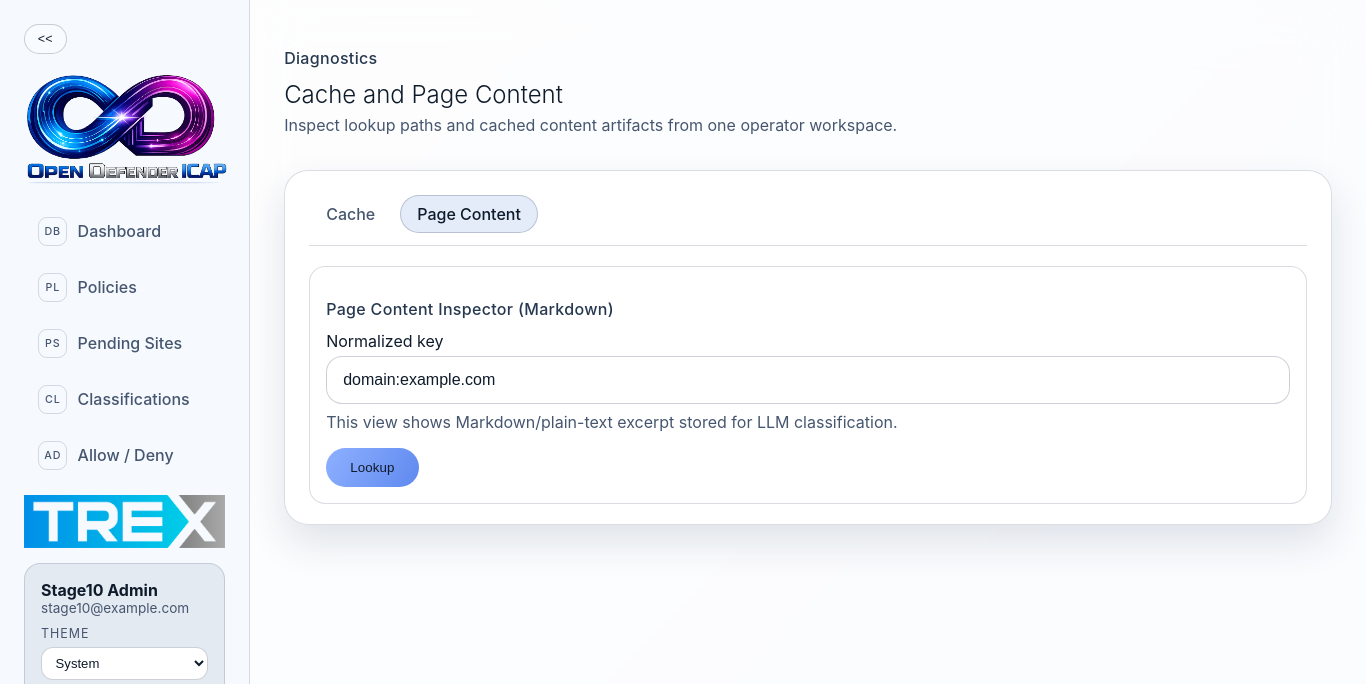
Scenario: Stage 10 management parity flows › runs diagnostics for page content and cache entries
The width and height of the screenshot is (1366, 684).
Replace the text in the field labelled "Normalized key" with "domain:stage10.example" at [808, 380], box [326,356,1290,403]
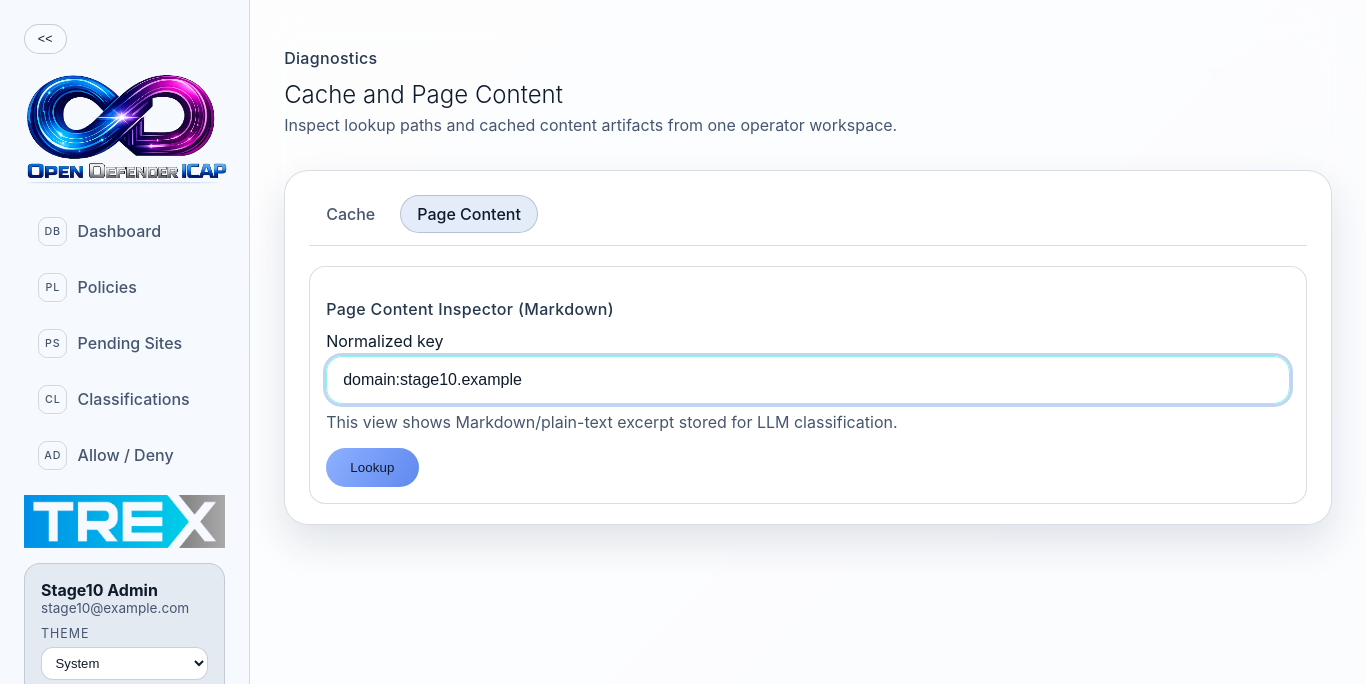
Click the button "Lookup".
click(373, 468)  # box [326,448,419,487]
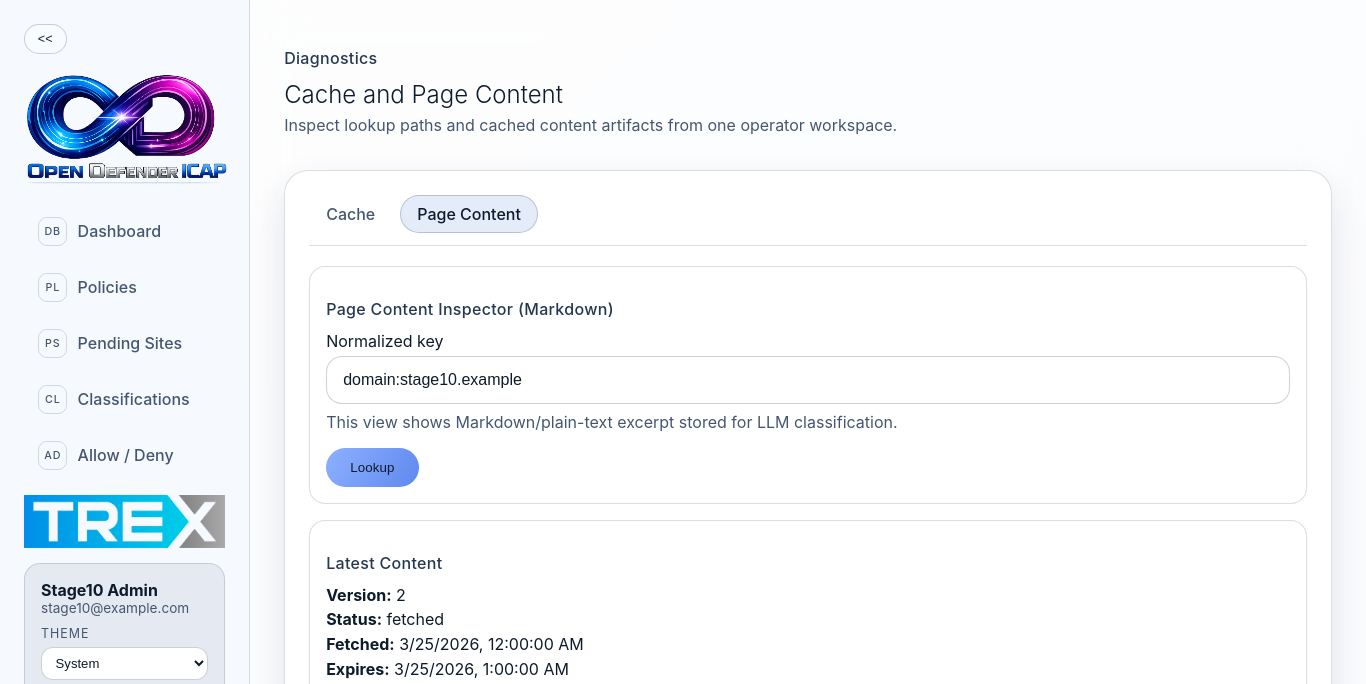
Check: the text "Latest Content" is shown, box [326,553,442,573]
Check: the text "Version:" is shown, box [326,585,392,605]
Open "/diagnostics/cache"
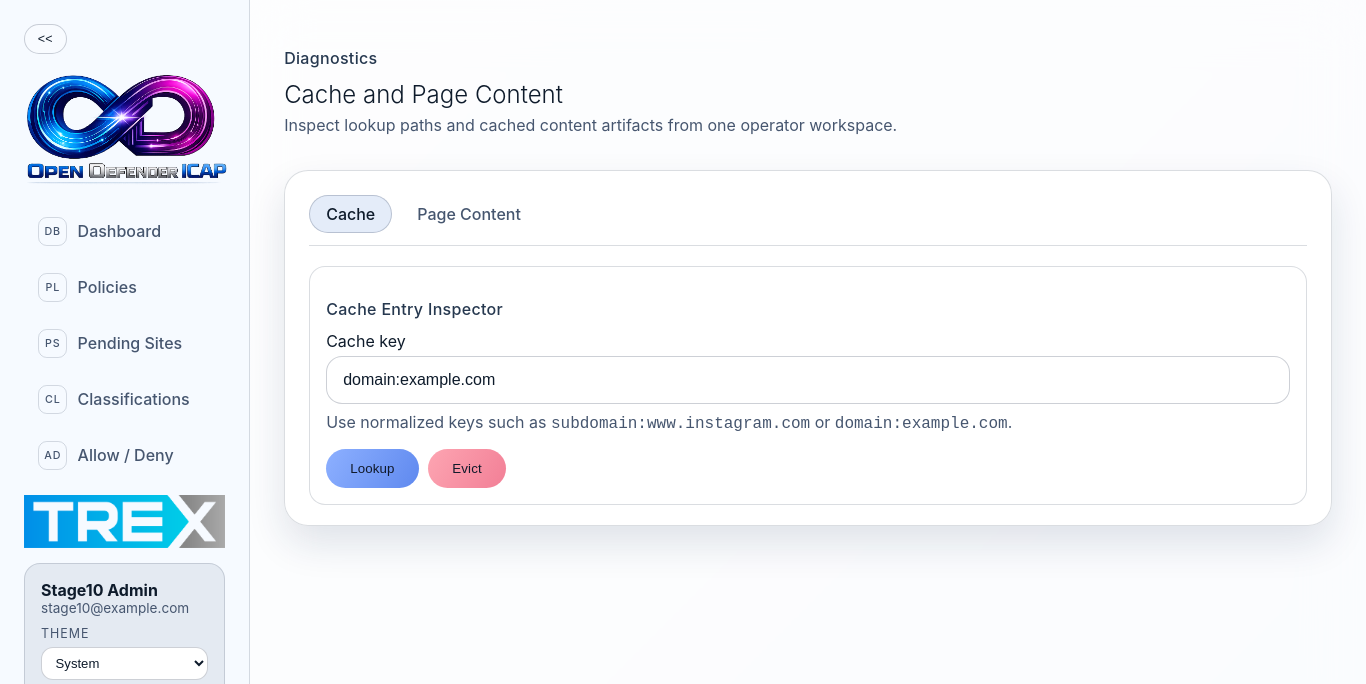
Replace the text in the field labelled "Cache key" with "domain:stage10.example" at [808, 380], box [326,356,1290,403]
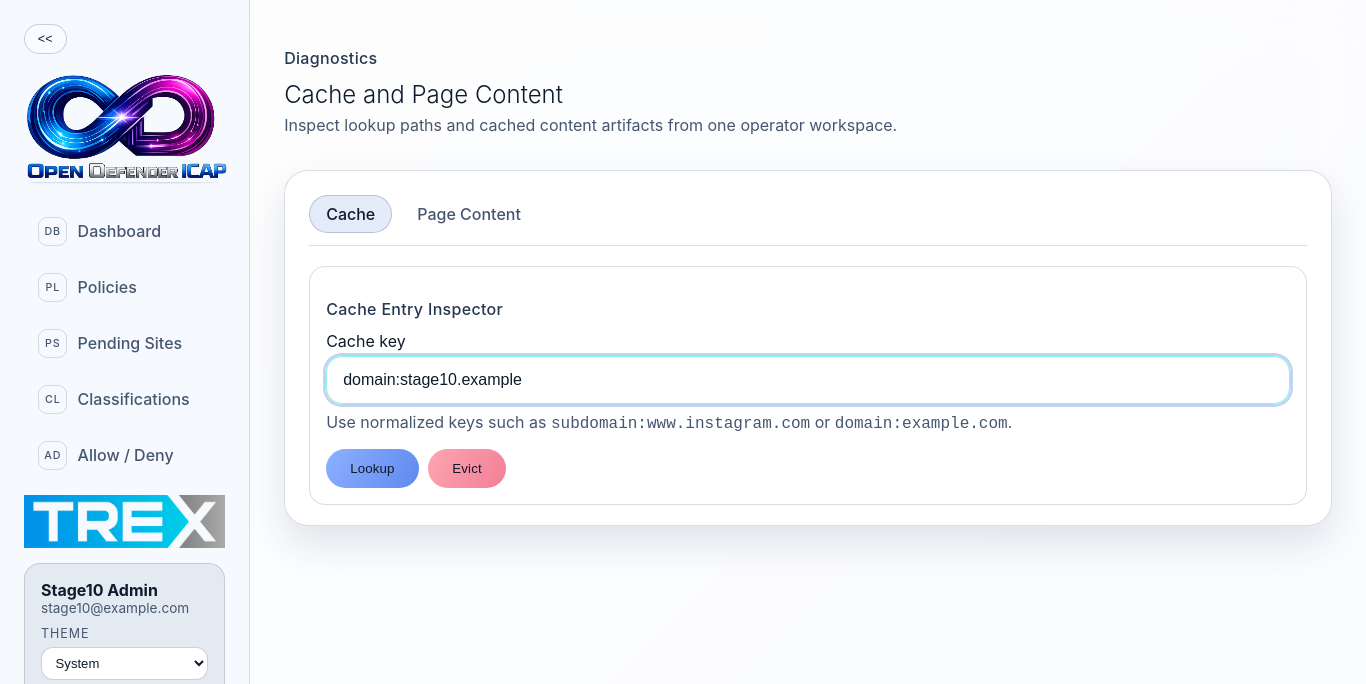
Click the button "Lookup".
click(373, 469)  # box [326,449,419,488]
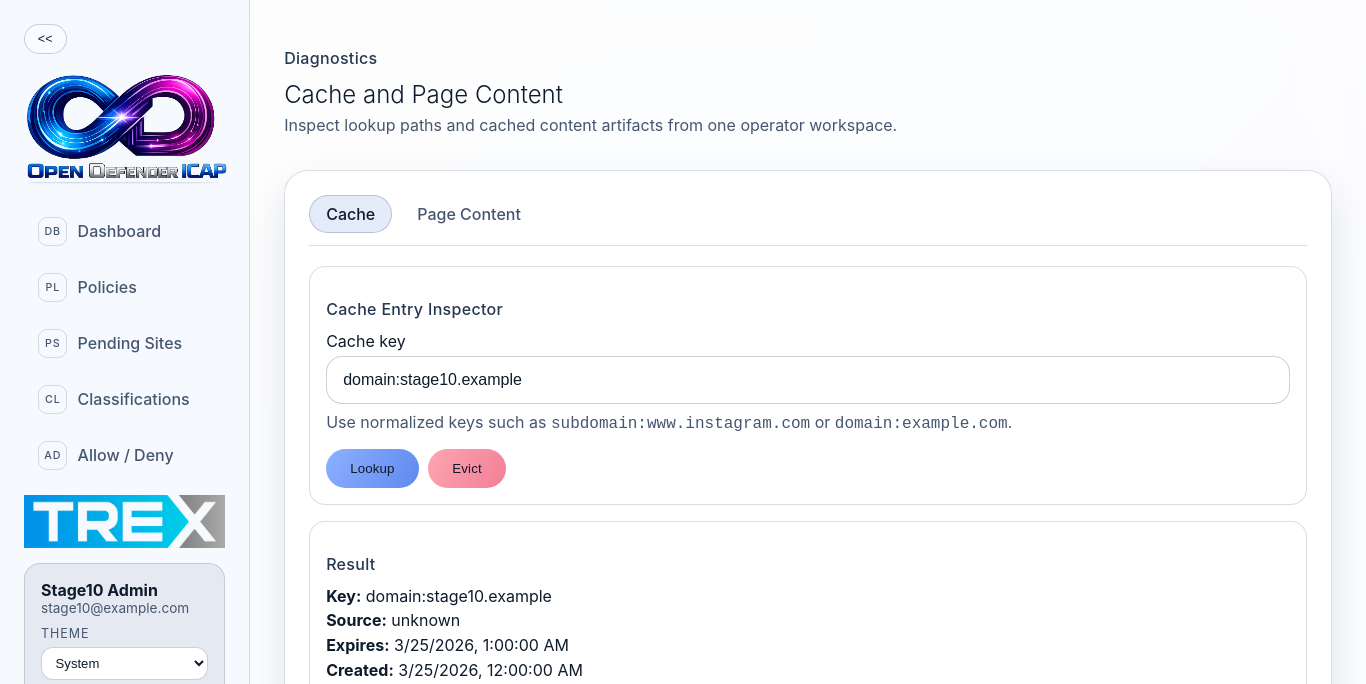
Check: the text "Result" is shown, box [326,554,376,574]
Click the button "Evict".
click(467, 469)  # box [428,449,506,488]
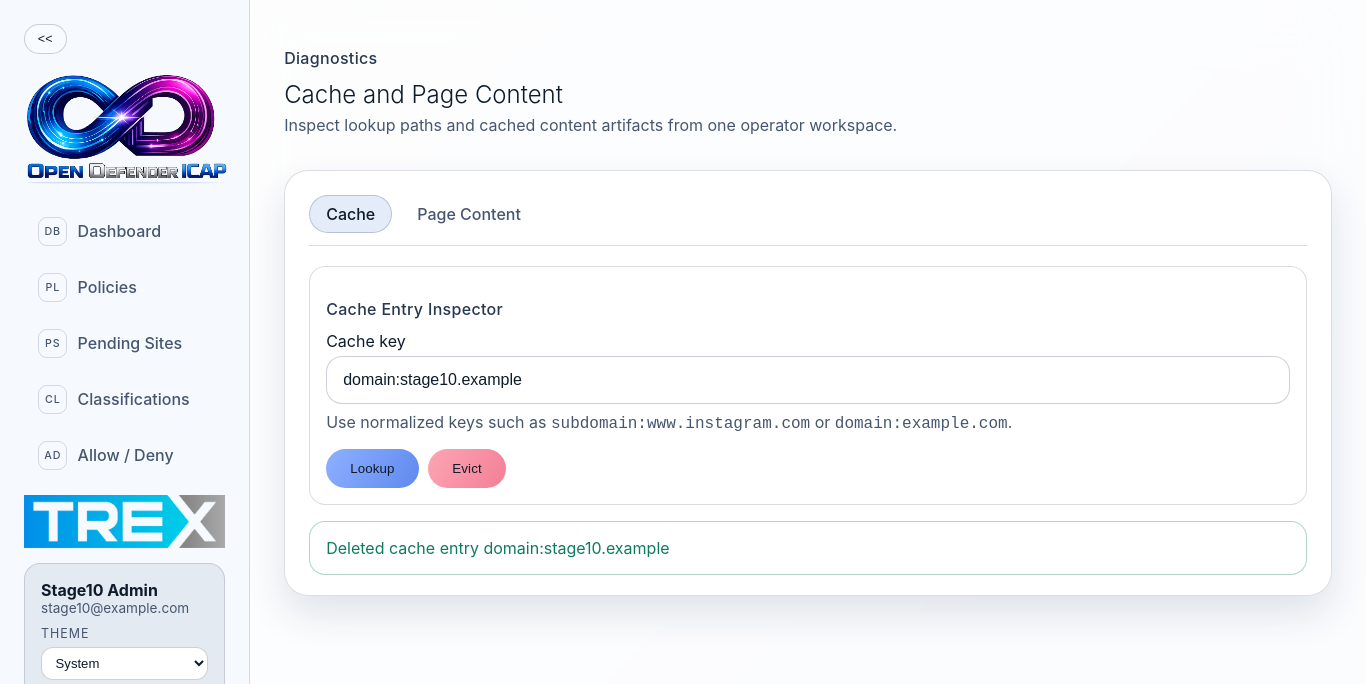
Check: the text "Deleted cache entry domain:stage10.example" is shown, box [326,538,670,558]
